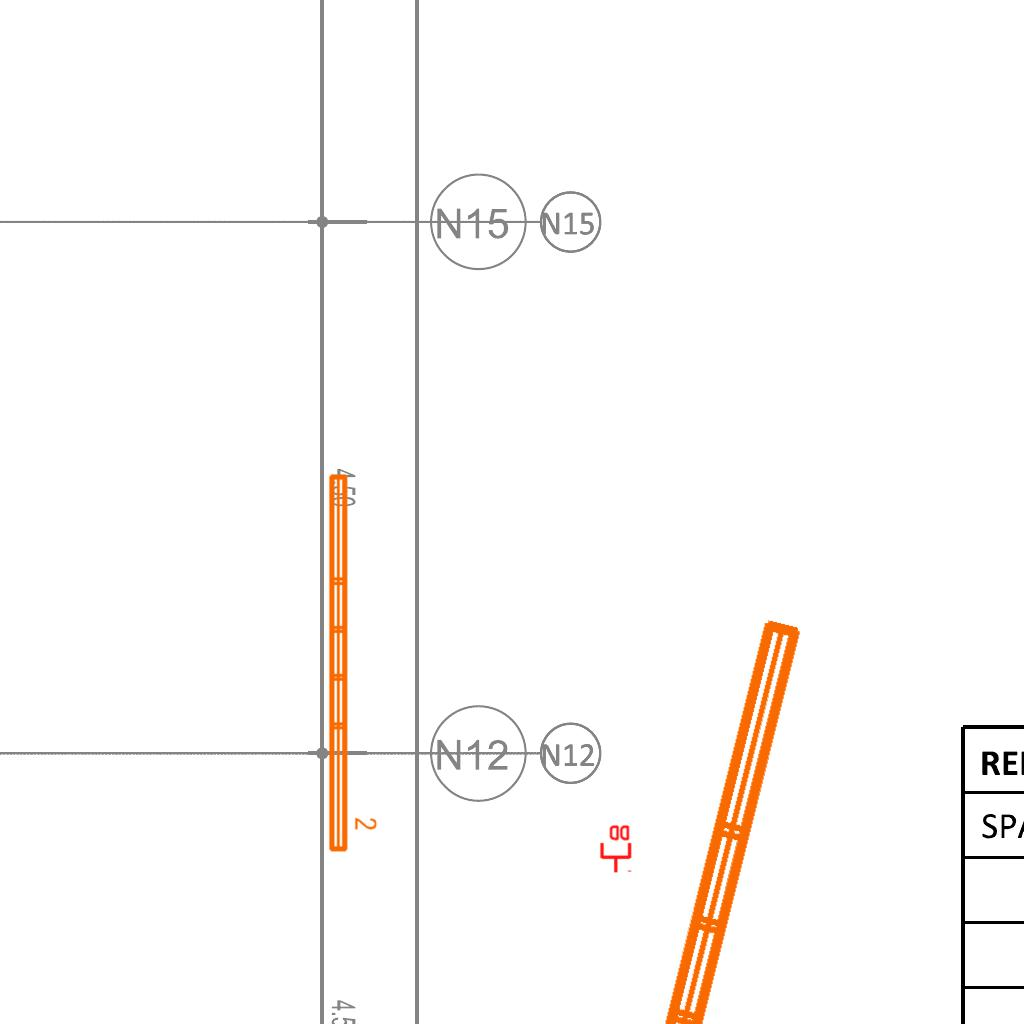Ambulanz_Pendelleuchte_LED: (569, 605, 865, 1024), (323, 469, 379, 856)
Datenanschluss_zweifach: (598, 823, 632, 874)
